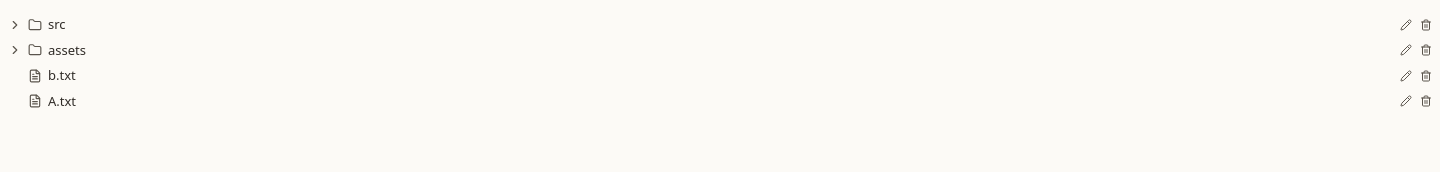
Test: FileTree › fetches and renders a subdirectory on expand
Step 1. Click the button with test id "tree-row-src" → [15, 25], box [4, 12, 1396, 38]
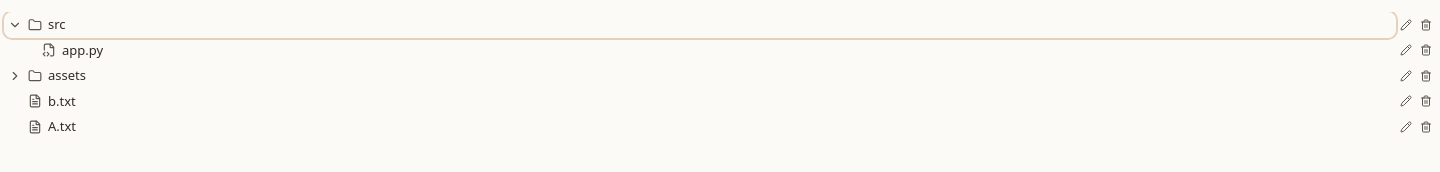
Check: the button with test id "tree-row-src/app.py" is shown, box [18, 38, 1396, 63]
Check: the button with test id "tree-row-src" is expanded, box [4, 12, 1396, 38]
